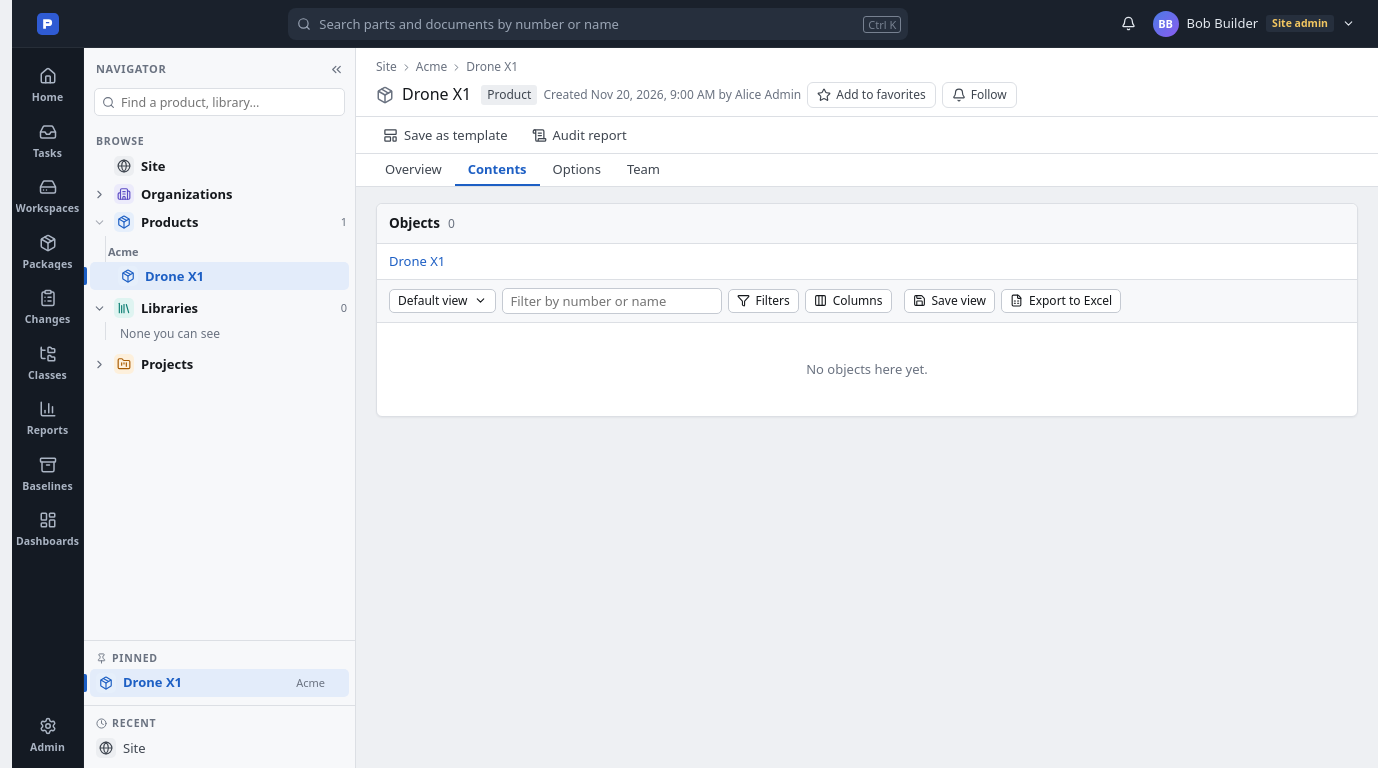
Test: Navigator › collapses to a rail and remembers it
Click the button named "Collapse navigator": (336, 69) [323,56,349,82]
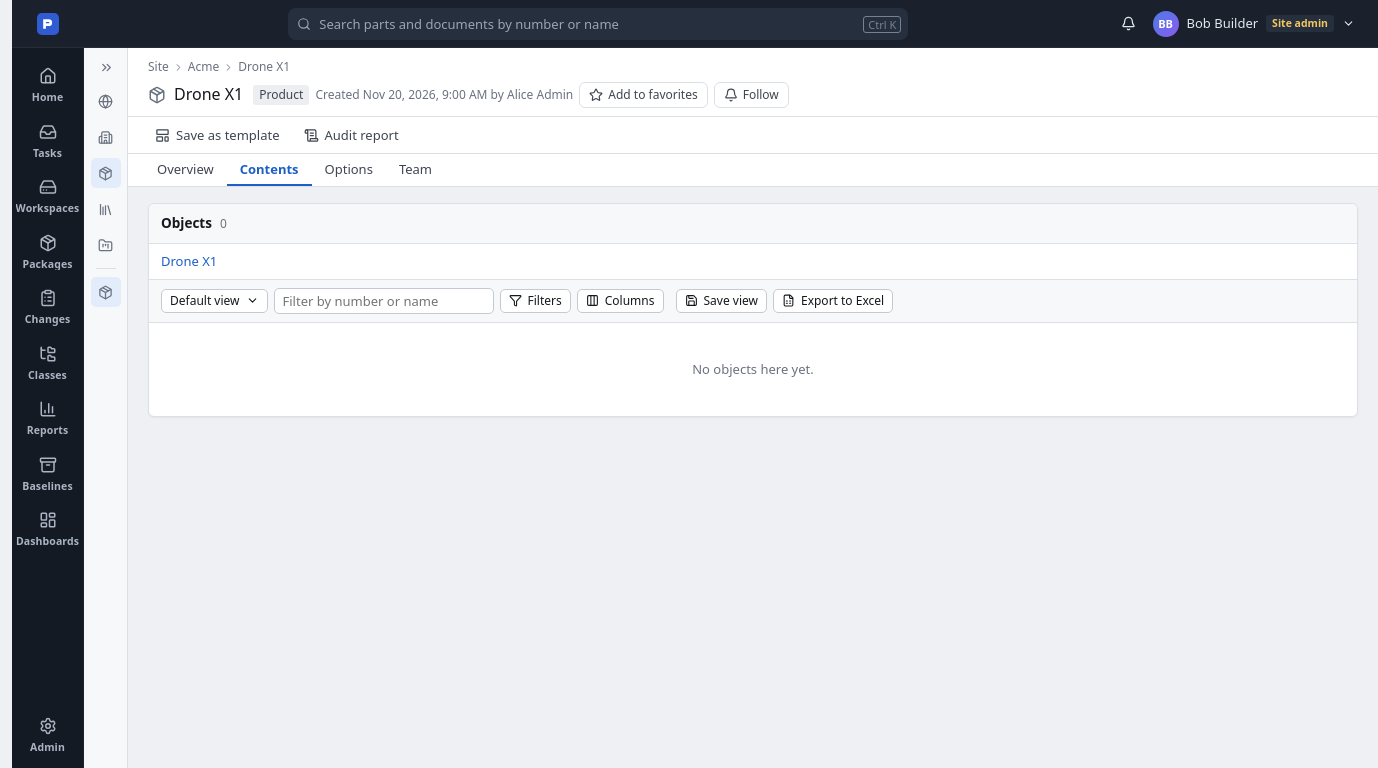
Check: the button named "Expand navigator" is shown, box [92,54,118,80]
